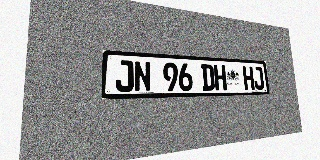6: (178, 63, 193, 91)
9: (163, 62, 179, 91)
D: (201, 64, 215, 91)
H: (213, 65, 227, 90), (242, 66, 255, 90)
J: (115, 60, 134, 92), (253, 67, 264, 90)
N: (134, 61, 151, 92)
